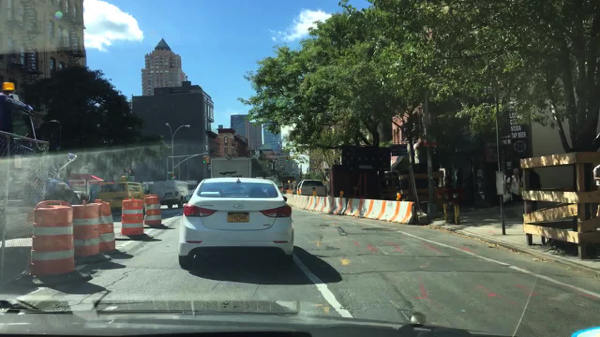car: (177, 178, 295, 268), (95, 180, 149, 213), (150, 180, 187, 210), (295, 180, 326, 198), (283, 187, 292, 196)
person: (503, 166, 524, 217), (524, 167, 542, 213), (442, 171, 451, 191)
traffic light: (203, 154, 206, 166)
truck: (0, 83, 89, 226), (209, 156, 260, 180)
